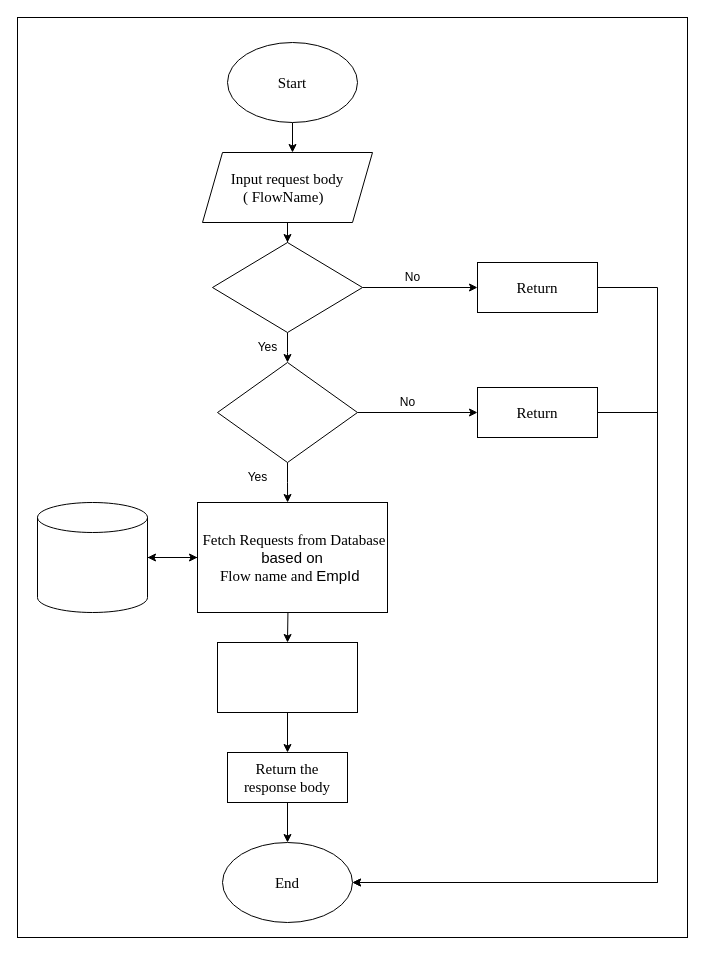
This 705x955 diagram has some shape labels left out. The centre of each missing label's shape, as x and y in pixels:
"Data Base" goes at point 92,557.
"Flow name exist" goes at point 287,412.
"Preparing the response body" goes at point 287,677.
"Valid request body" goes at point 287,287.
